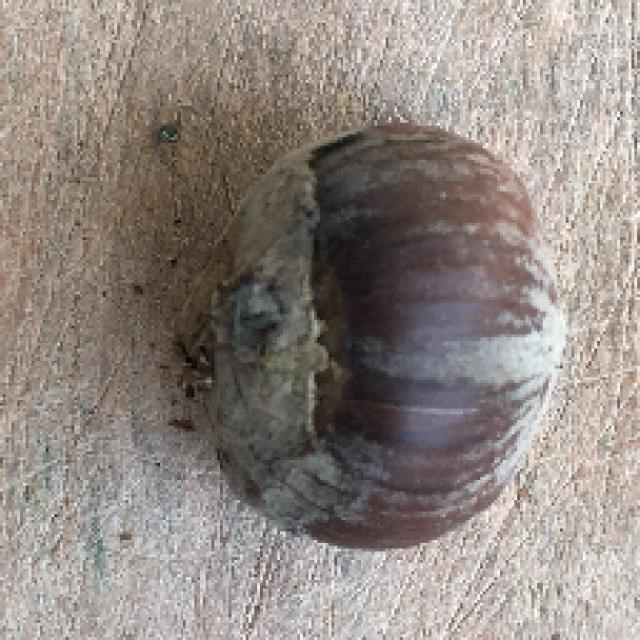damagedHazelnut: (175, 118, 565, 555)
